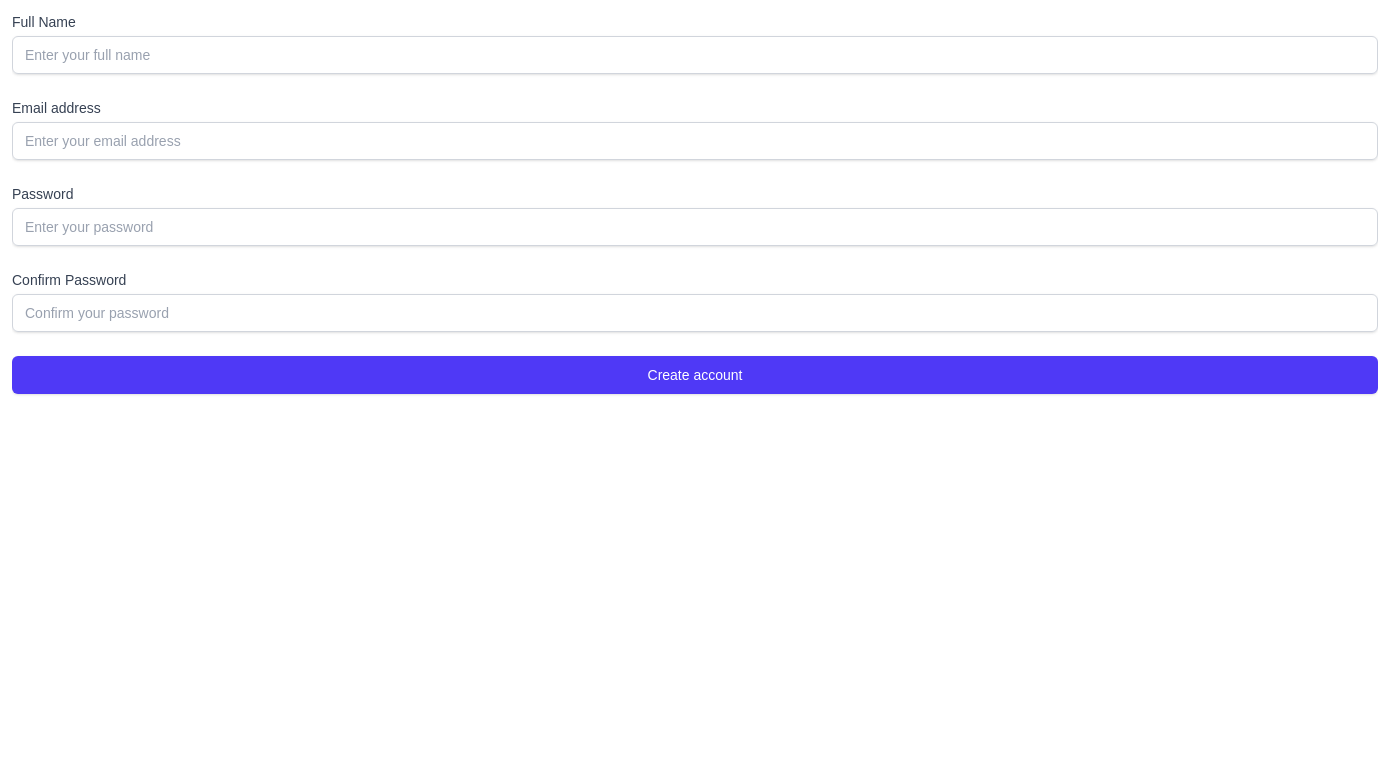
Test: SignupForm › should validate password confirmation
The width and height of the screenshot is (1390, 780).
Type "password123" into the password field labelled "Password" at (695, 227), box x1=12 y1=208 x2=1378 y2=246
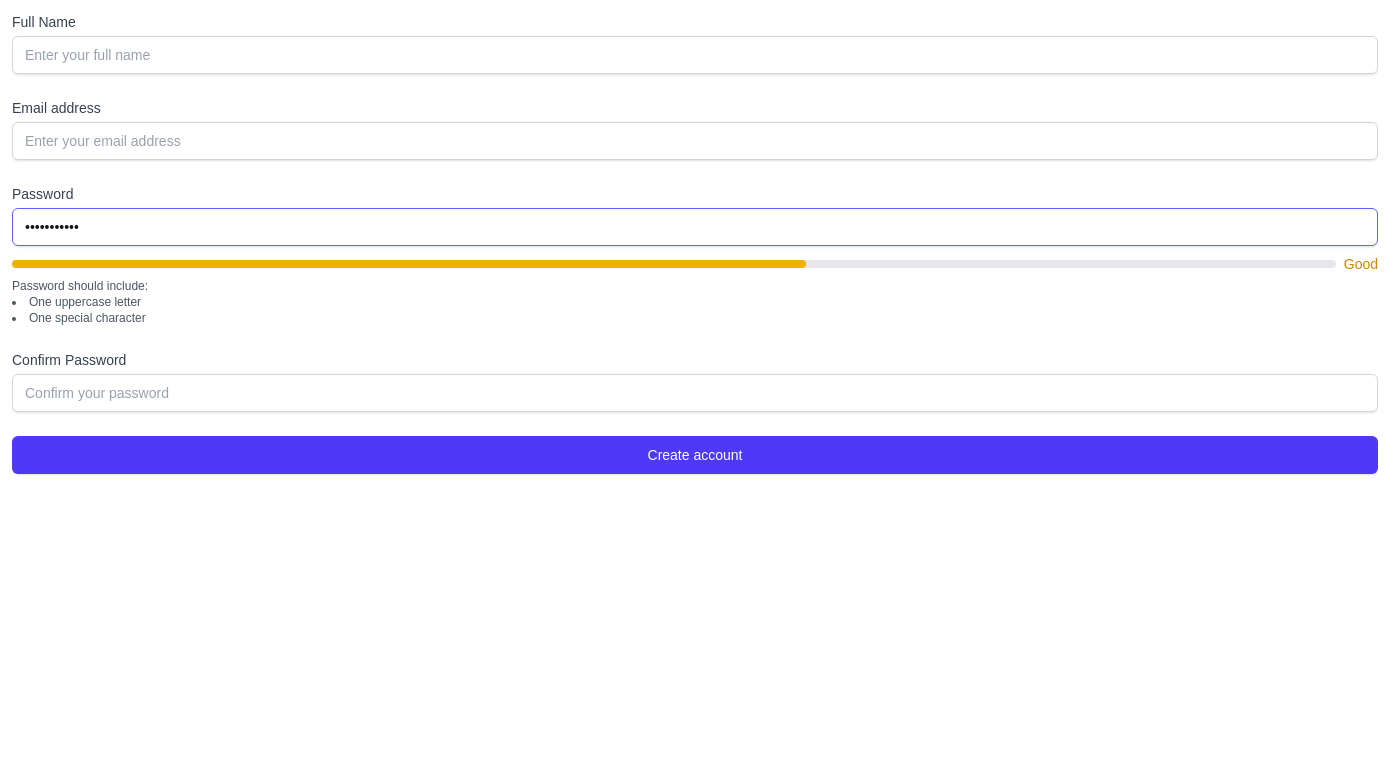
Type "different123" into the password field labelled "Confirm Password" at (695, 393), box x1=12 y1=374 x2=1378 y2=412
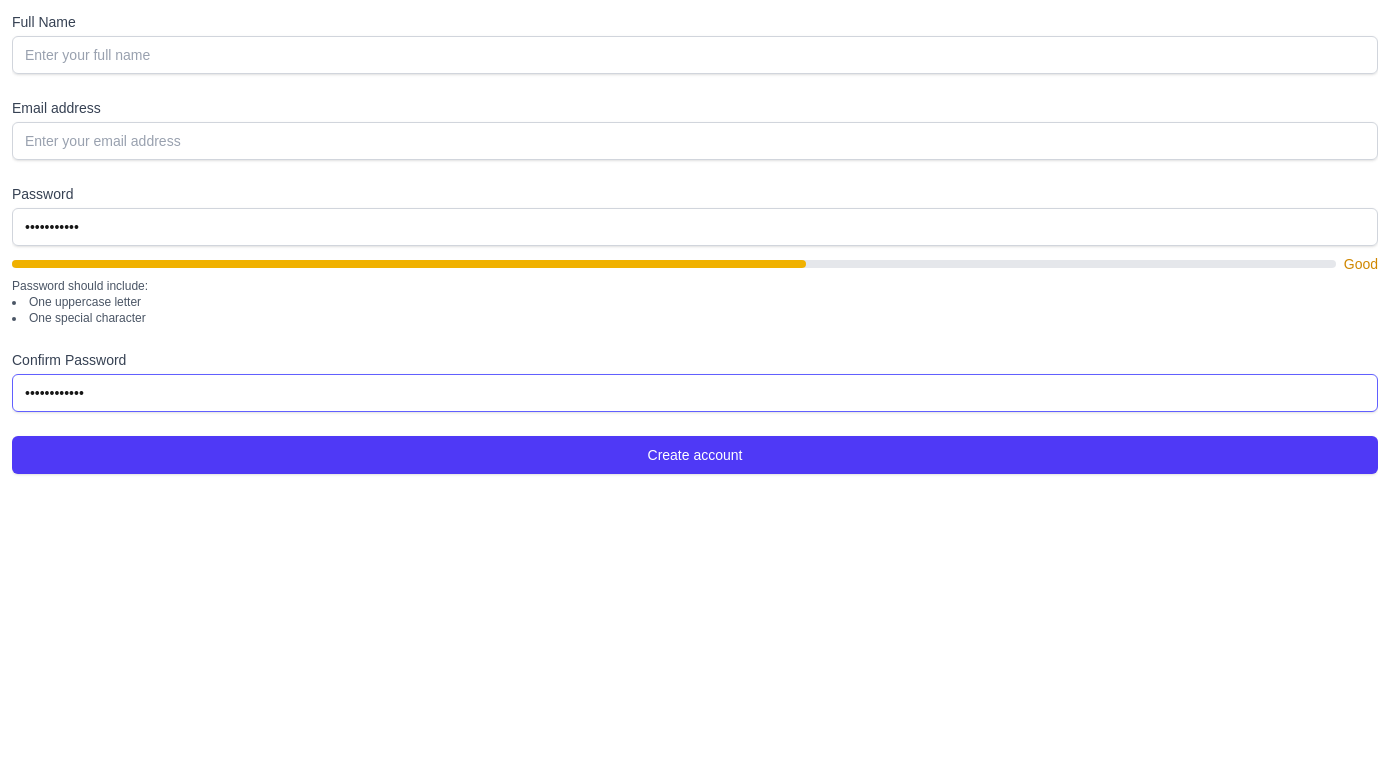
Click the button "Create account" at (695, 455), box x1=12 y1=436 x2=1378 y2=474
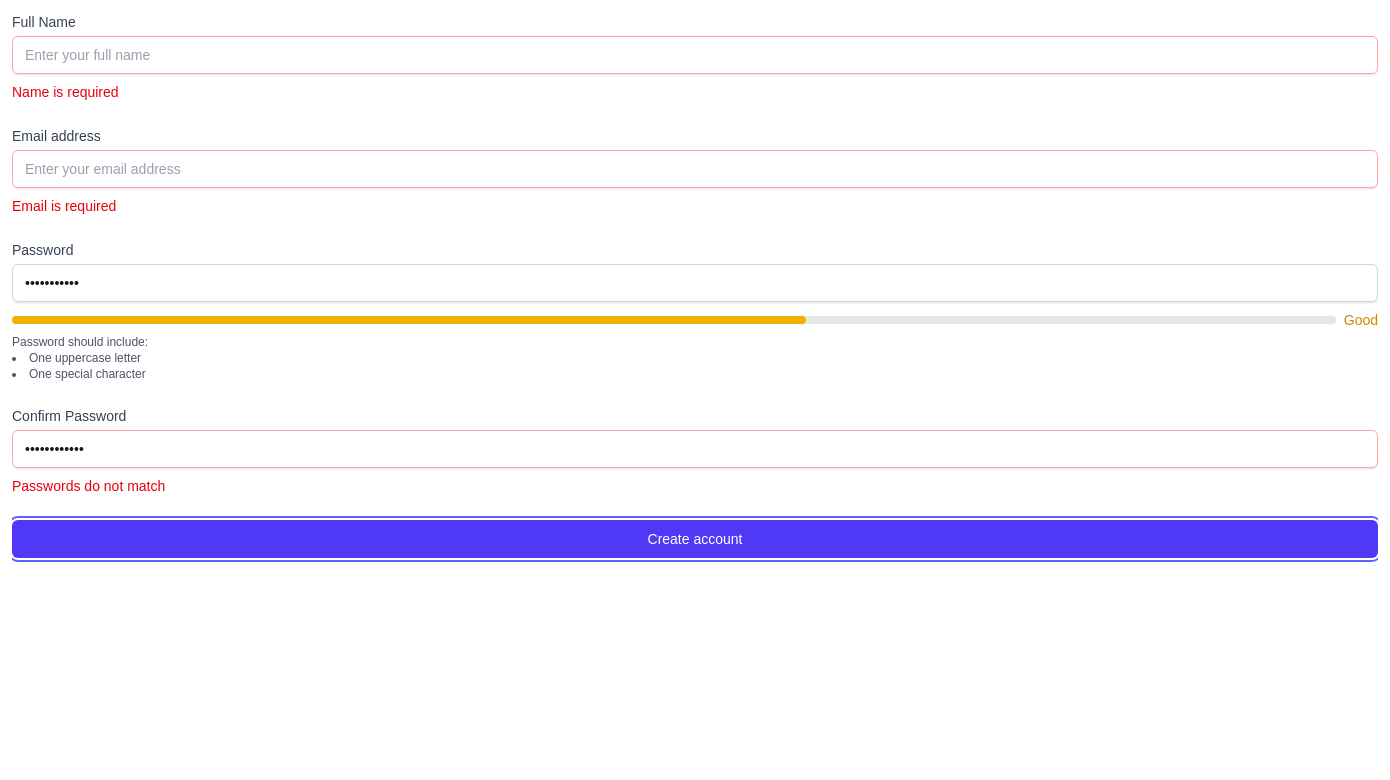
Check: the text "Passwords do not match" is shown, box x1=12 y1=478 x2=165 y2=494
